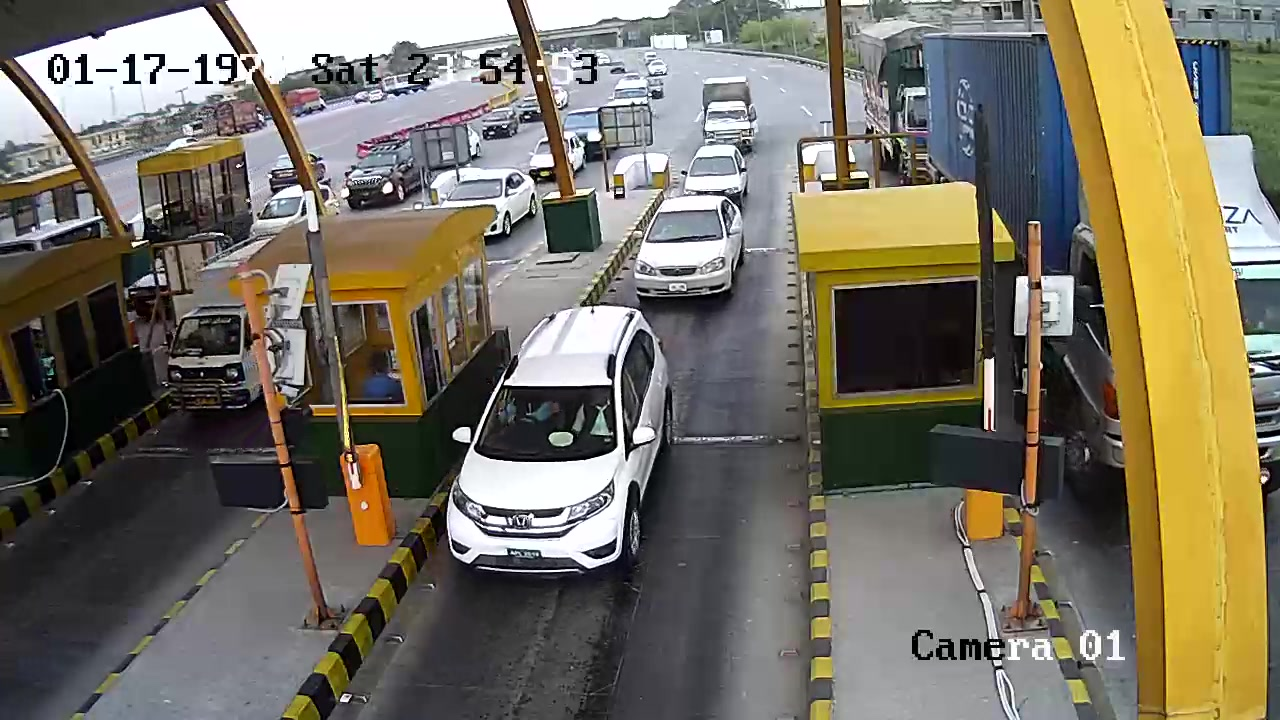F1: (441, 303, 689, 581)
